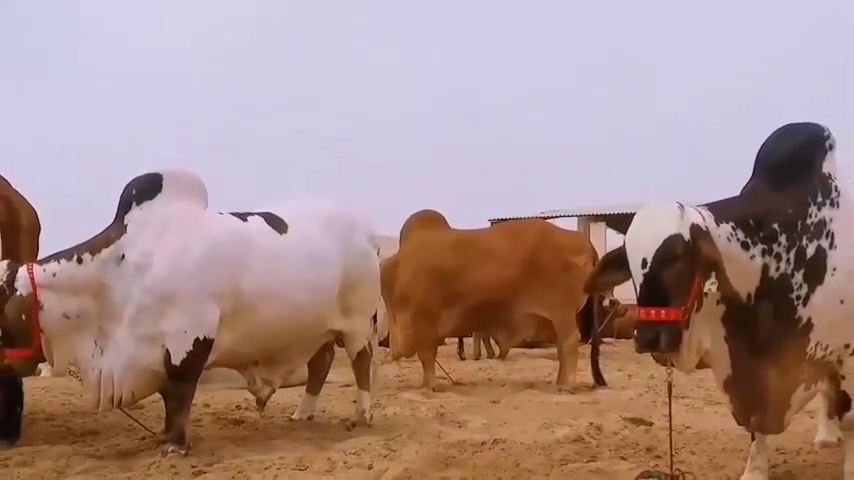bo: (1, 155, 387, 474), (573, 116, 849, 476), (358, 196, 616, 400)
